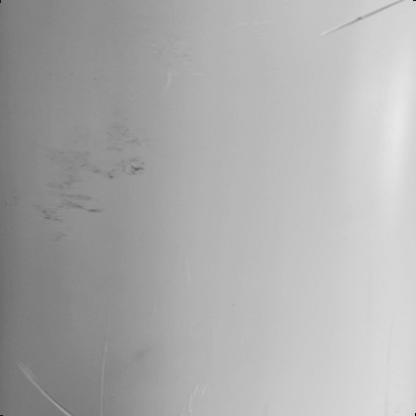sunshang: (20, 363, 76, 416), (324, 1, 404, 36)
